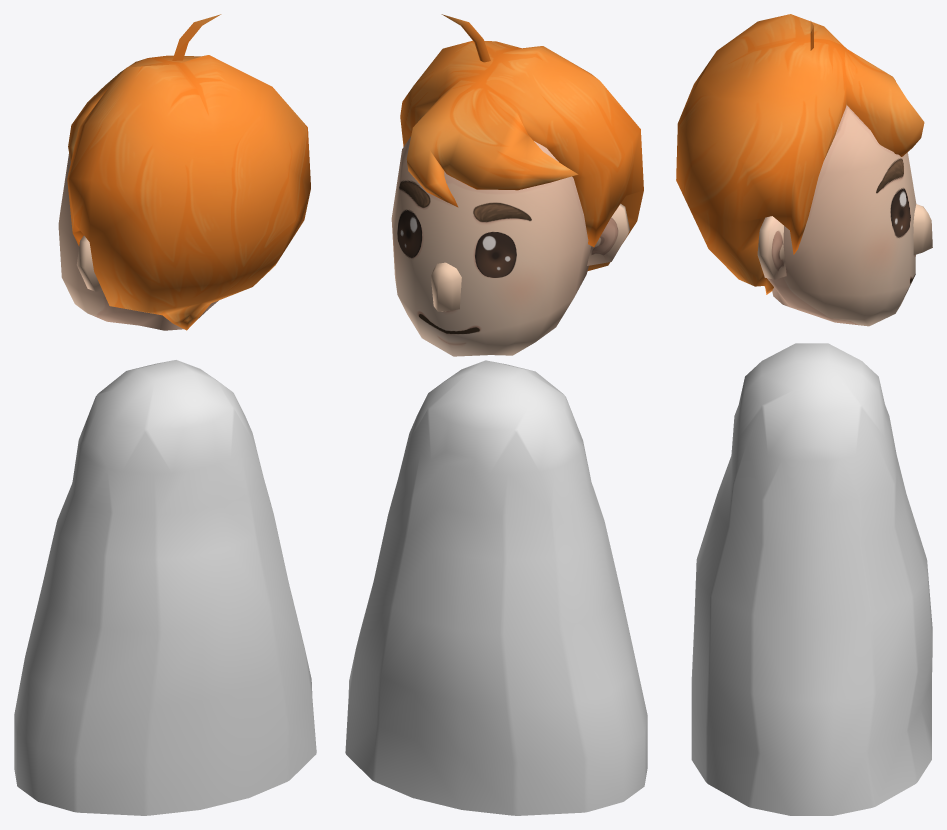
File: curious_boy_2.glb
3 views of the same model, side by side, from view 1: azimuth 30°, elevation 25°; view 2: azimuth 150°, elevation 25°; view 3: azimuth 270°, elevation 25° (orthographic).
Visible parts, largest first — view 1: body, head; view 2: body, head; view 3: body, head.
Boxes of the visible parts, x1,y1,x2,y2 form: body: (14, 360, 316, 815); head: (58, 14, 310, 330); body: (345, 360, 647, 815); head: (391, 14, 643, 356); body: (691, 343, 932, 815); head: (676, 14, 932, 326).
Bounding box in the file's own units: 0.4347 × 1.11 × 0.3464.
Materials: 2 (1 with a texture image).
